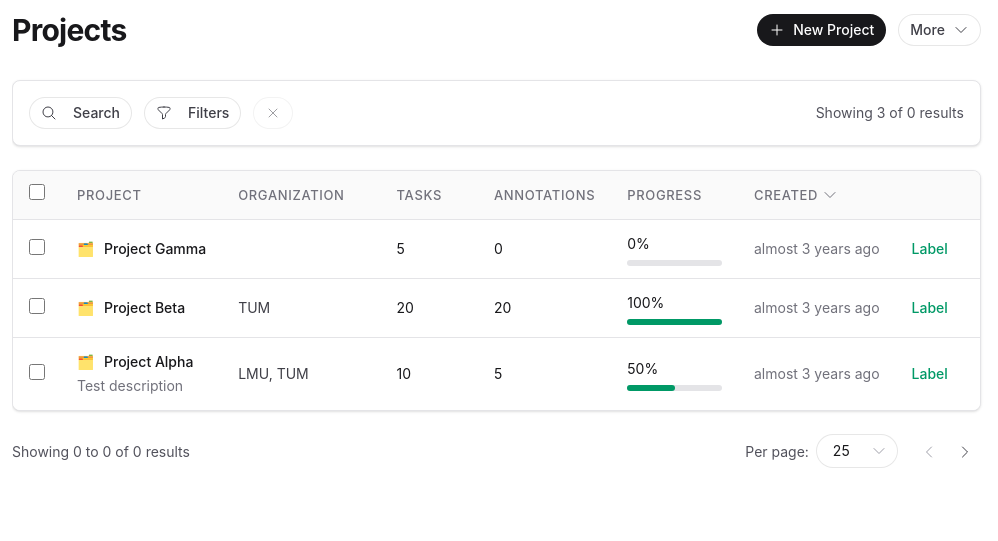
Test: ProjectListTable › Row Selection › should select all projects on current page
Click the checkbox with test id "projects-table-header-checkbox" at (37, 192), box [29, 184, 45, 200]
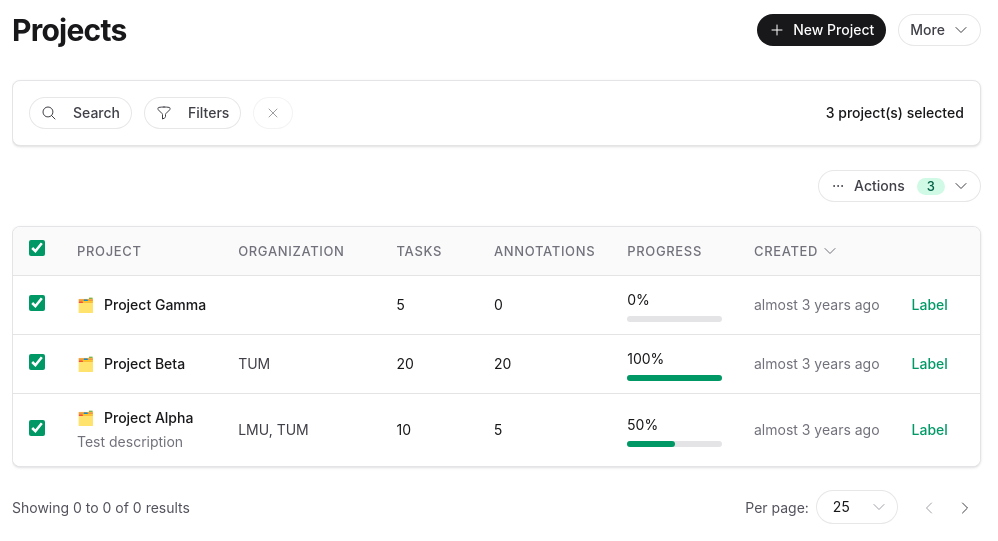
Now the text with test id "projects-selection-count" reads "3 project(s) selected", box [826, 104, 964, 121]
